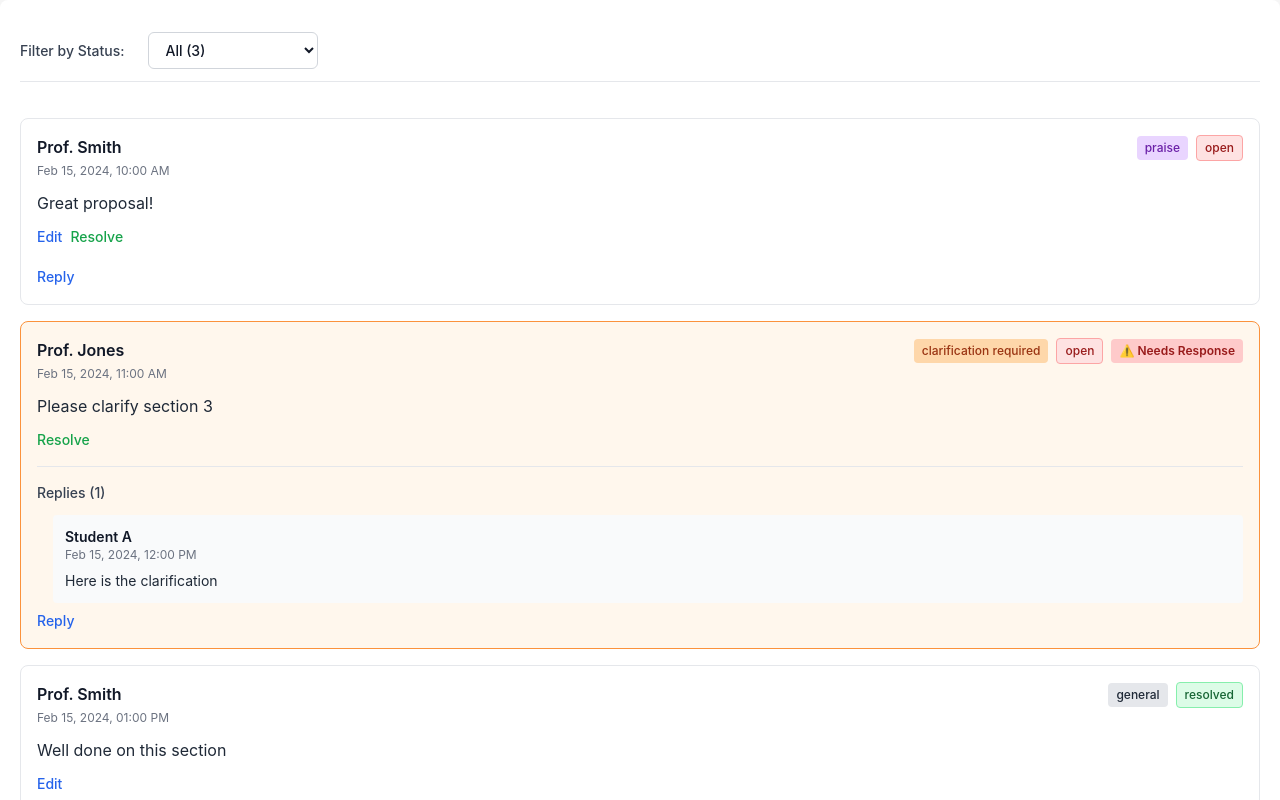
CommentThread › Filter by Status › open filter shows only open comments (criterion 10)
This screenshot has width=1280, height=800.
Select "Open (2)" in the dropdown named "filter comments by status" at (234, 50), box left=148, top=32, right=318, bottom=69
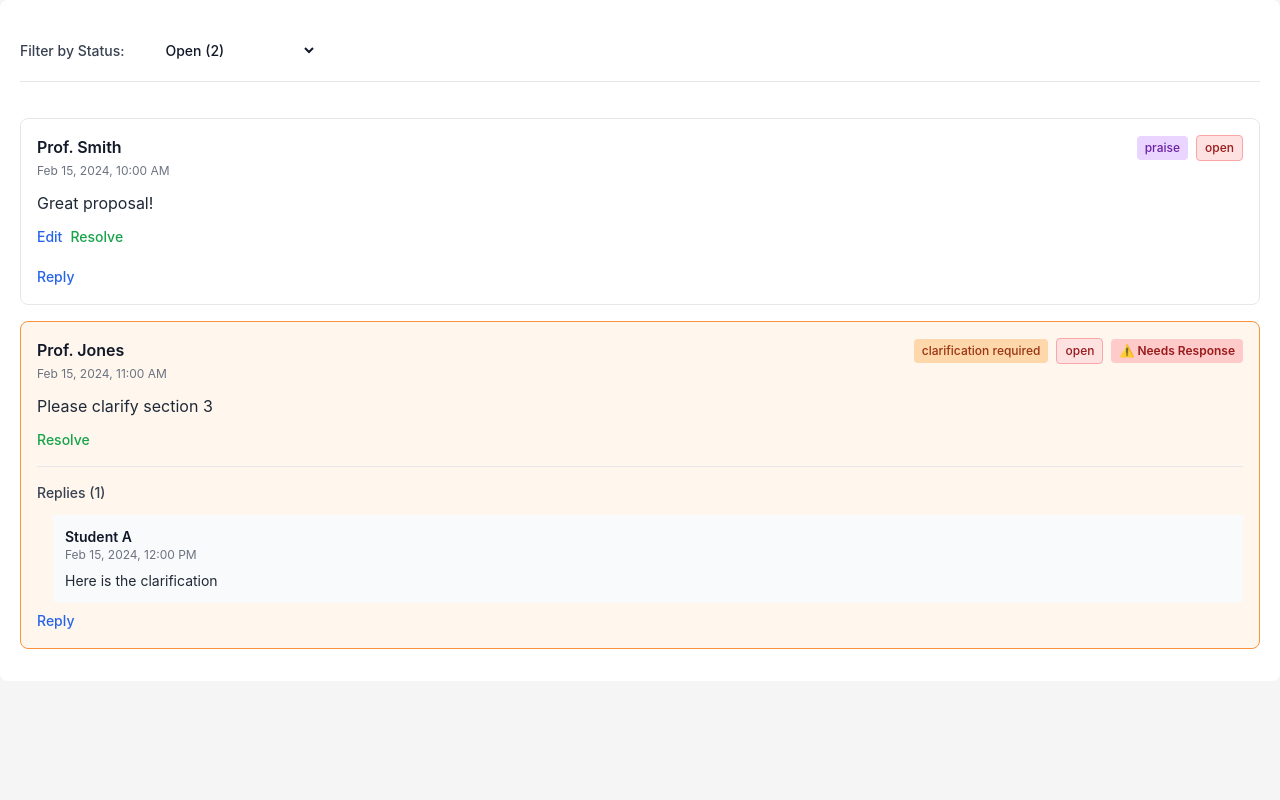
Expected: the text "Great proposal!" is shown, left=37, top=193, right=153, bottom=213
Result: the text "Well done on this section" is gone
